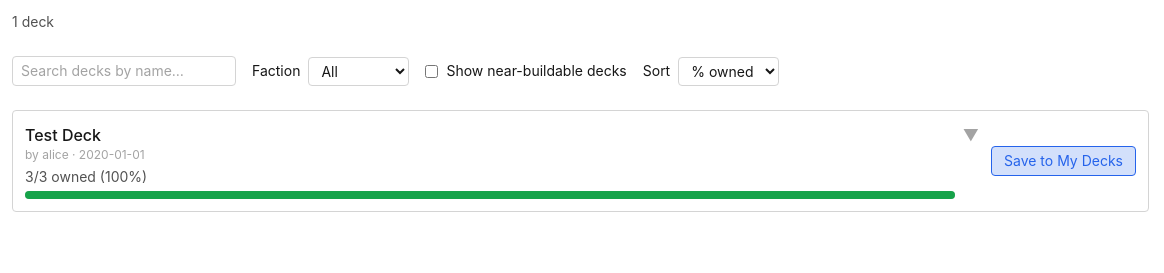
DiscoverSection › clears a prior save error on a subsequent successful save
Click the button "Save to My Decks" at (1064, 161), box [991,146,1136,176]
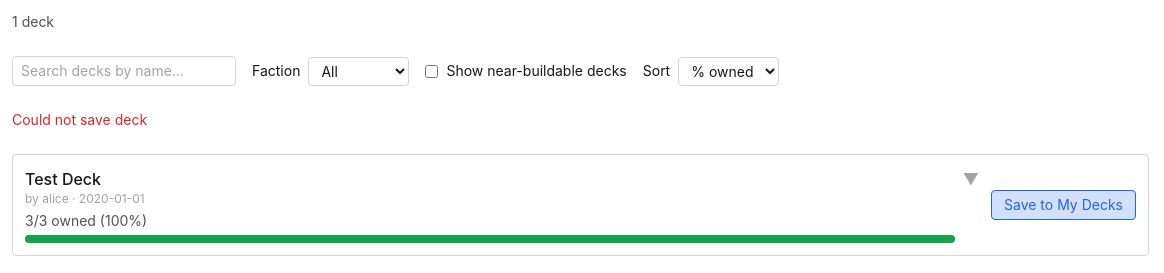
Expected: the text "Could not save deck" is shown, [12,111,147,128]
Click the button "Save to My Decks" at (1064, 205), box [991,190,1136,220]
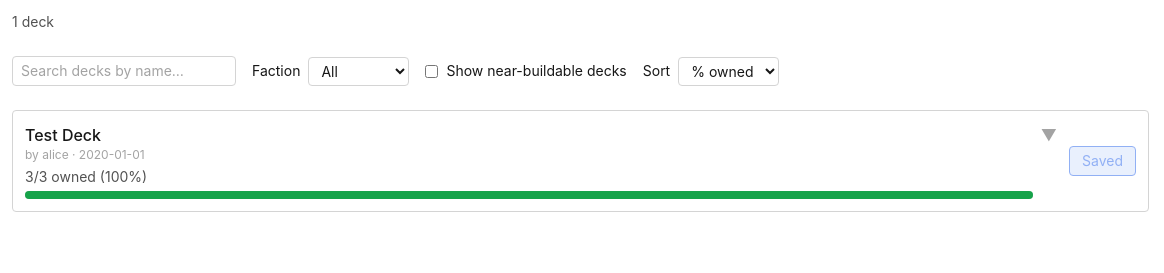
Expected: the button "Saved" is disabled, [1069,146,1136,176]
Expected: the text "Could not save deck" is gone
